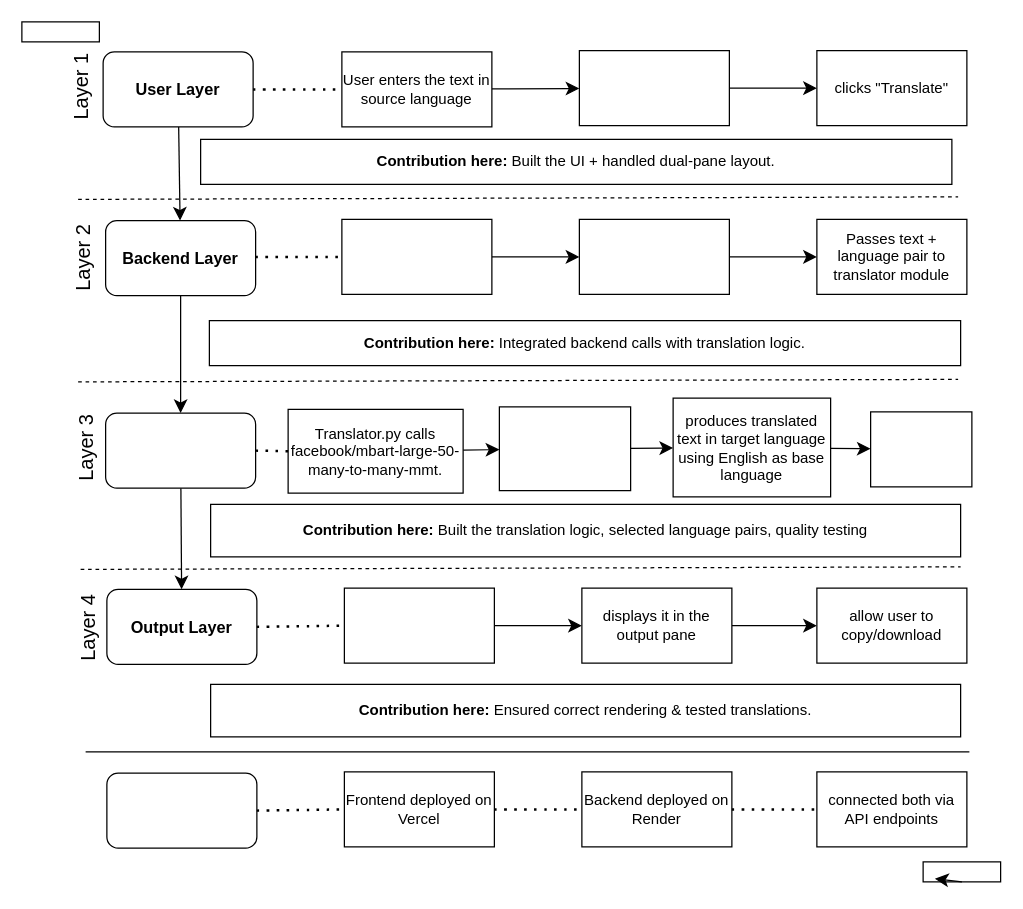
The diagram is 1023 pixels wide and 909 high, and some of its shapes have lost their labels. Here are the shapes that lost their labels. From the top down, the centre of each, then its label:
At pixel 653 87: "selects target language".
At pixel 416 256: "Receives request from frontend vie Axios".
At pixel 653 256: "validates the input".
At pixel 180 450: "Model Layer (MBART Translation)".
At pixel 564 448: "model detects source language".
At pixel 920 449: "Handles errors (blocked Hindi -> Urdu)".
At pixel 418 625: "receives translated text".
At pixel 181 810: "Deployment".
